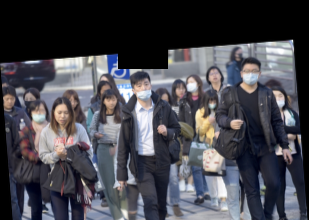mask_weared_incorrect: (30, 105, 48, 125), (135, 80, 152, 101), (272, 91, 287, 108)
with_mask: (242, 66, 261, 86), (185, 78, 200, 94), (23, 94, 38, 108), (208, 99, 218, 110)
without_mask: (54, 107, 71, 125), (3, 94, 18, 109), (208, 69, 223, 83), (104, 96, 118, 109), (174, 84, 187, 98), (67, 97, 79, 109)
